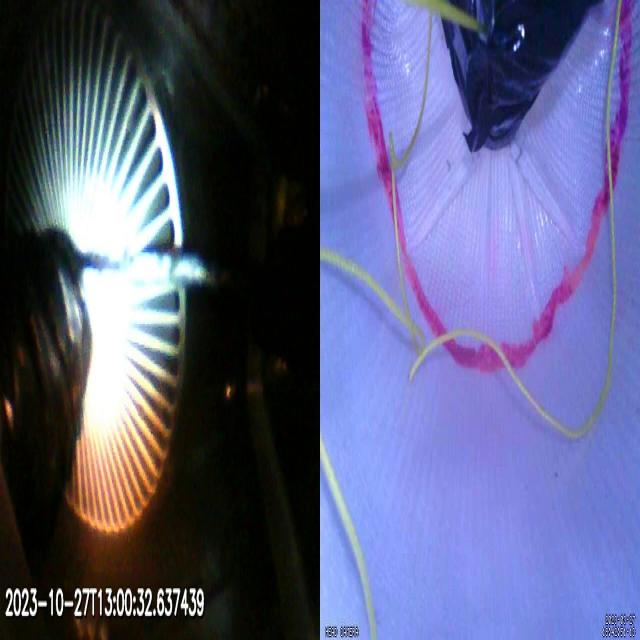red-circle: (361, 1, 634, 375)
